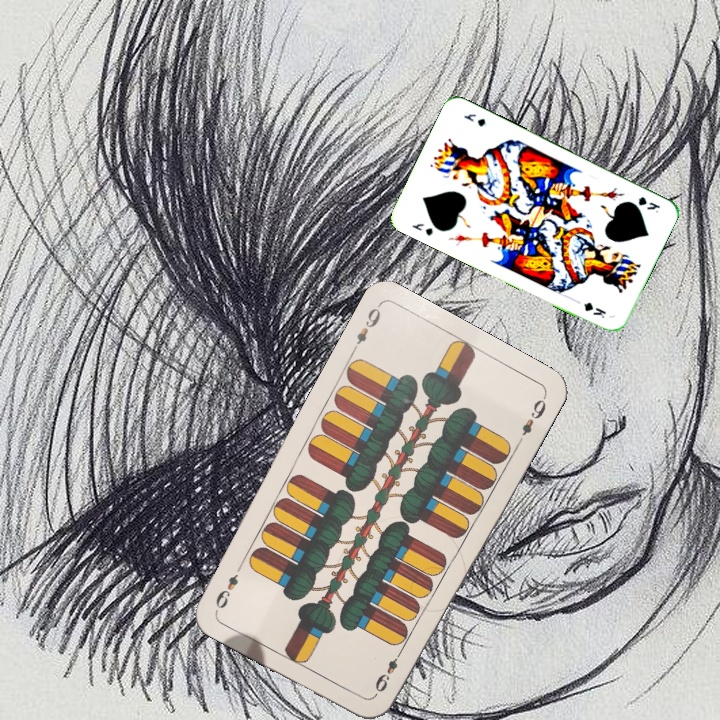E9: (370, 644, 406, 698), (348, 301, 384, 355)
GK: (633, 192, 663, 216), (408, 219, 436, 238)
